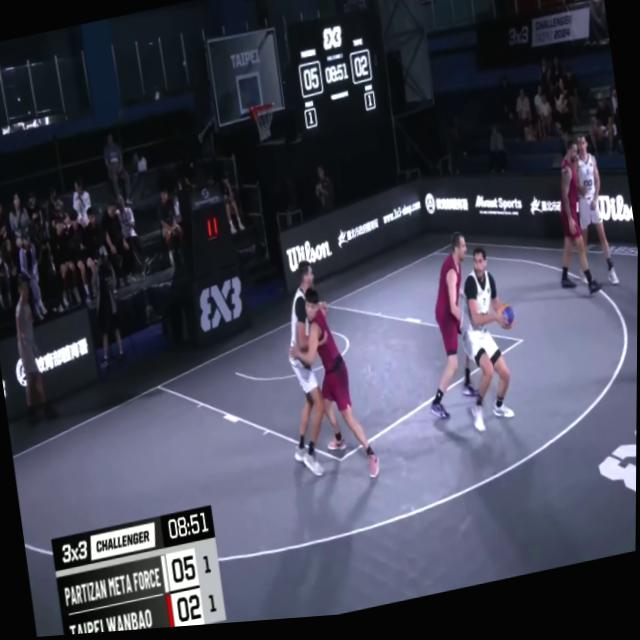ball: (497, 305, 520, 343)
hoop: (249, 104, 278, 149)
player: (279, 282, 384, 508), (403, 231, 490, 429), (272, 263, 348, 479), (446, 246, 525, 442), (542, 147, 603, 311), (565, 145, 618, 302)
